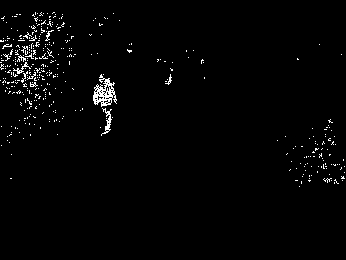person: (92, 72, 118, 136)
